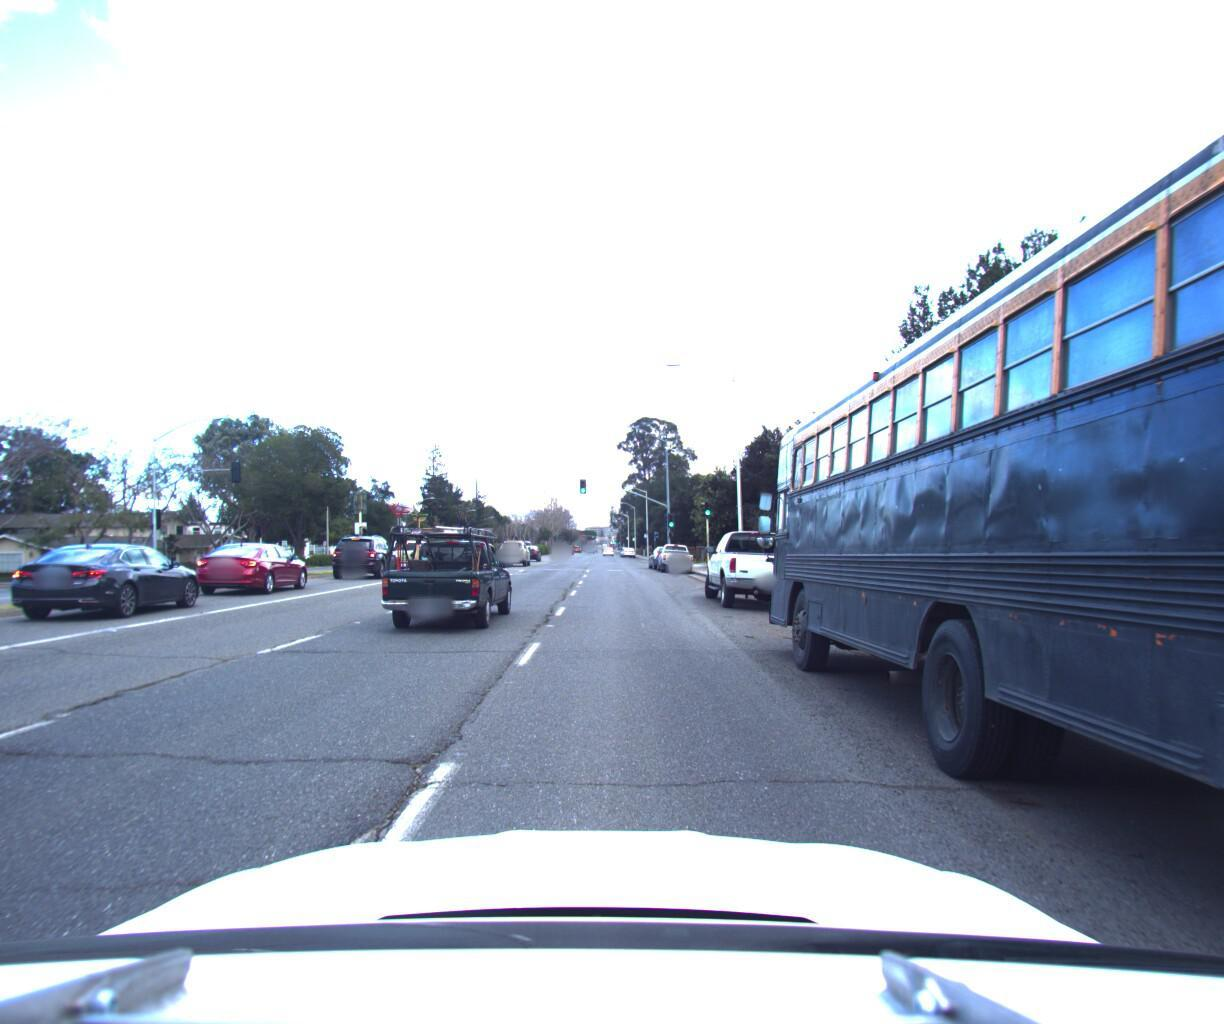bus: (754, 0, 1224, 1024)
car: (376, 489, 521, 633), (0, 537, 212, 623), (702, 522, 801, 608), (194, 534, 313, 590), (329, 532, 402, 574), (655, 532, 693, 569), (644, 534, 676, 562), (498, 532, 532, 559), (518, 535, 541, 554)
